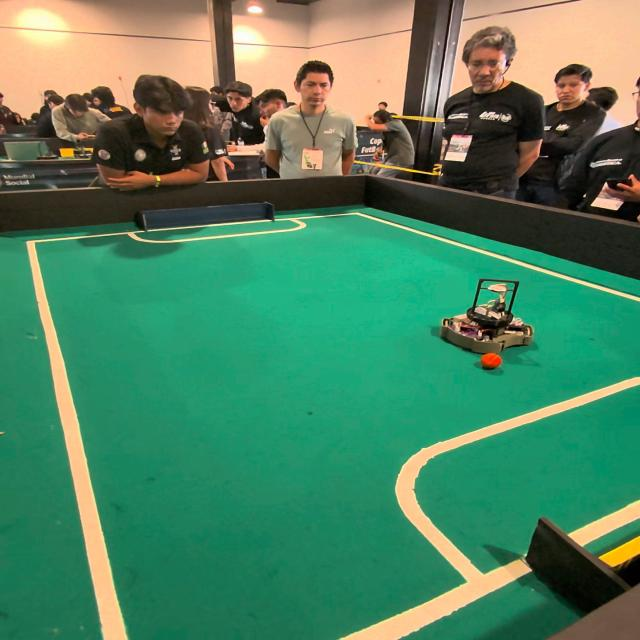Robot: (441, 274, 534, 349)
pelota: (481, 352, 502, 368)
